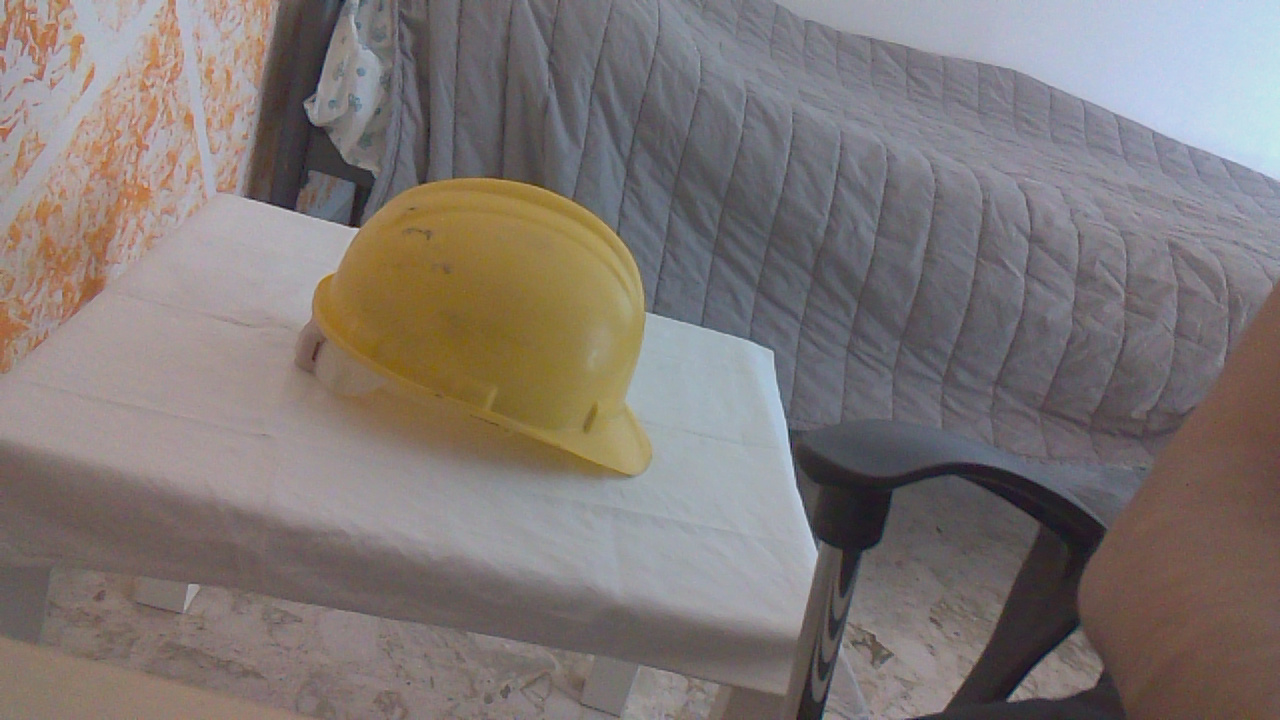Helmet: (302, 177, 663, 480)
